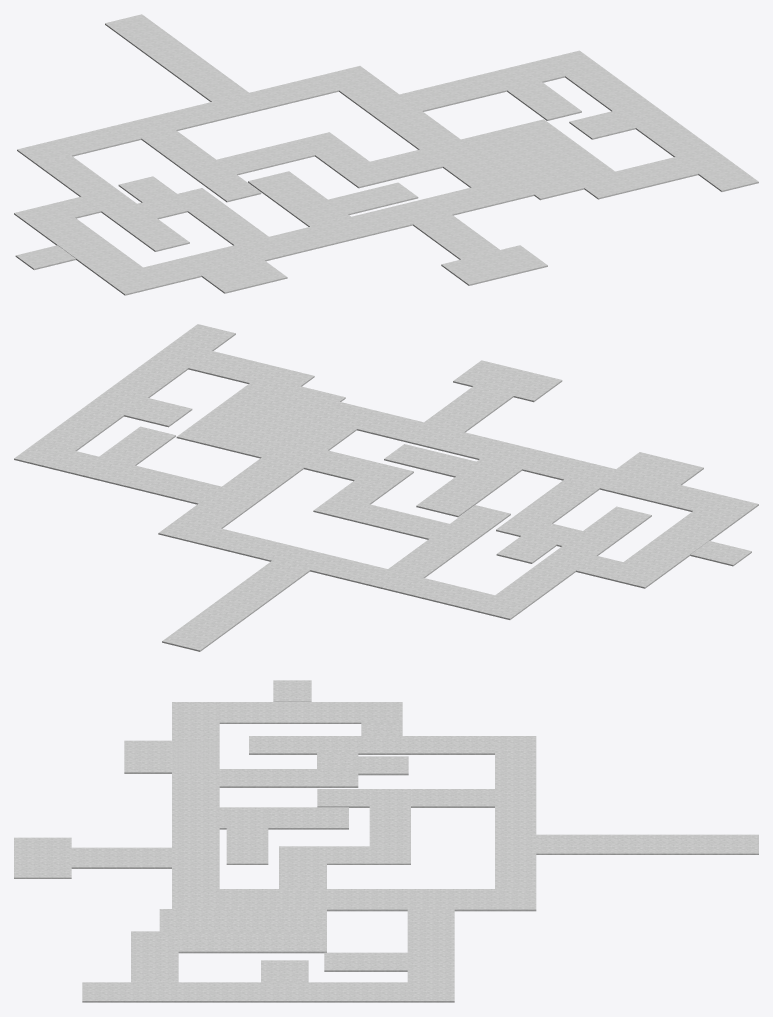
Rendered from Ceiling.obj.
The picture shows the model from 3 angles, top to bottom: view 1: azimuth 30°, elevation 25°; view 2: azimuth 150°, elevation 25°; view 3: azimuth 270°, elevation 25°; orthographic projection. The views are drawn at different scales.
Parts seen in each view (by area): view 1: Part29, Part15, Part27, Part24, Part7, Part26, Part14, Part5, Part28, Part3, Part21, Part22 (+16 smaller); view 2: Part29, Part15, Part27, Part24, Part26, Part7, Part14, Part5, Part28, Part3, Part21, Part22 (+16 smaller); view 3: Part29, Part27, Part24, Part15, Part14, Part7, Part26, Part28, Part5, Part21, Part3, Part10 (+16 smaller).
Boxes of the visible parts, left/top/right/bottom form: Part29: left=102, top=177, right=534, bottom=295; Part15: left=17, top=76, right=338, bottom=164; Part27: left=319, top=66, right=510, bottom=187; Part24: left=565, top=67, right=758, bottom=191; Part7: left=37, top=155, right=189, bottom=251; Part26: left=399, top=50, right=601, bottom=111; Part14: left=105, top=14, right=248, bottom=101; Part5: left=14, top=203, right=142, bottom=278; Part28: left=461, top=129, right=584, bottom=200; Part3: left=179, top=243, right=287, bottom=293; Part21: left=504, top=119, right=614, bottom=181; Part22: left=576, top=157, right=698, bottom=199; Part29: left=316, top=402, right=758, bottom=521; Part15: left=200, top=528, right=530, bottom=619; Part27: left=158, top=419, right=356, bottom=544; Part24: left=37, top=324, right=235, bottom=450; Part26: left=14, top=441, right=221, bottom=504; Part7: left=495, top=506, right=651, bottom=604; Part14: left=162, top=561, right=309, bottom=651; Part5: left=603, top=511, right=735, bottom=588; Part28: left=216, top=386, right=345, bottom=458; Part3: left=593, top=452, right=703, bottom=503; Part21: left=176, top=383, right=290, bottom=447; Part22: left=188, top=351, right=314, bottom=392; Part29: left=172, top=702, right=219, bottom=908; Part27: left=219, top=889, right=536, bottom=911; Part24: left=82, top=982, right=407, bottom=1002; Part15: left=495, top=736, right=536, bottom=888; Part14: left=536, top=834, right=758, bottom=854; Part7: left=249, top=736, right=494, bottom=754; Part26: left=407, top=909, right=454, bottom=1002; Part28: left=159, top=909, right=326, bottom=932; Part5: left=219, top=702, right=402, bottom=723; Part21: left=178, top=931, right=326, bottom=953; Part3: left=124, top=740, right=219, bottom=773; Part10: left=219, top=769, right=358, bottom=787.
Bounding box in the file's own units: 477 × 1 × 468.
Materials: 1 (1 with a texture image).
